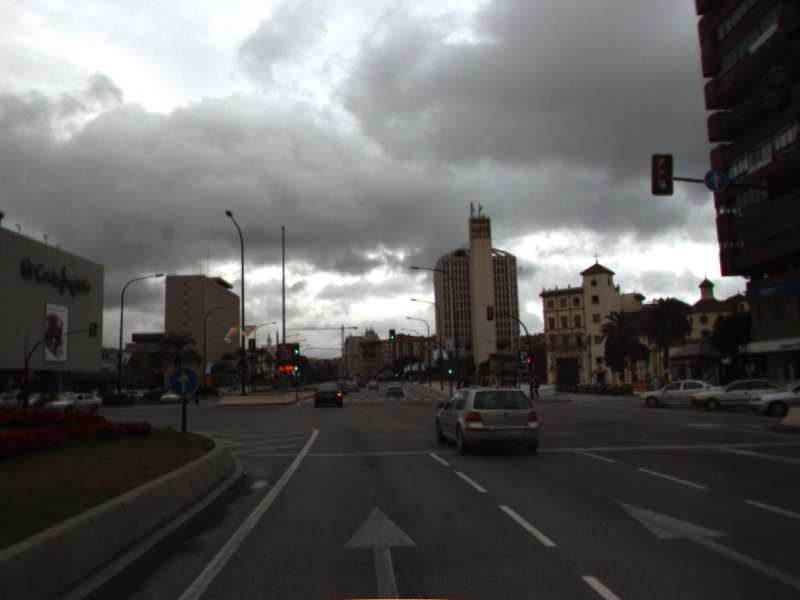STRAIGHT: (610, 496, 800, 589), (340, 500, 421, 600)
